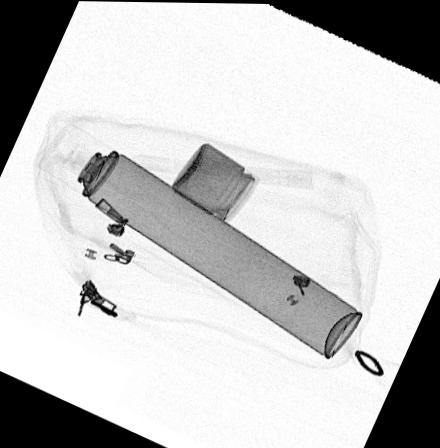Sprayer: (39, 123, 364, 360)
